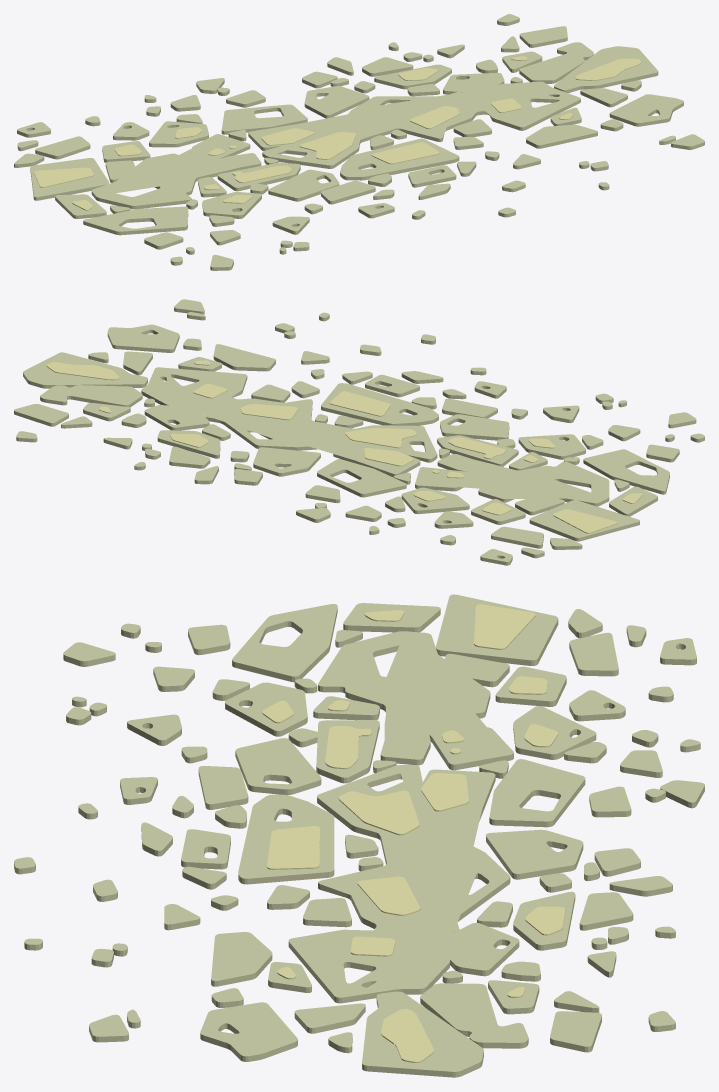
The model's file is stonesGround.fbx.
3 views of the same model, one above another, from view 1: azimuth 30°, elevation 25°; view 2: azimuth 150°, elevation 25°; view 3: azimuth 270°, elevation 25° (orthographic). The views are drawn at different scales.
Visible parts, largest first — view 1: RocksGround_1; view 2: RocksGround_1; view 3: RocksGround_1.
Boxes of the visible parts, box(x1,y1,x2,y2) form: RocksGround_1: box(14, 14, 704, 270); RocksGround_1: box(14, 299, 704, 565); RocksGround_1: box(14, 594, 704, 1077).
Size of the model in its own units: 5.55 by 0.0374 by 3.4.
